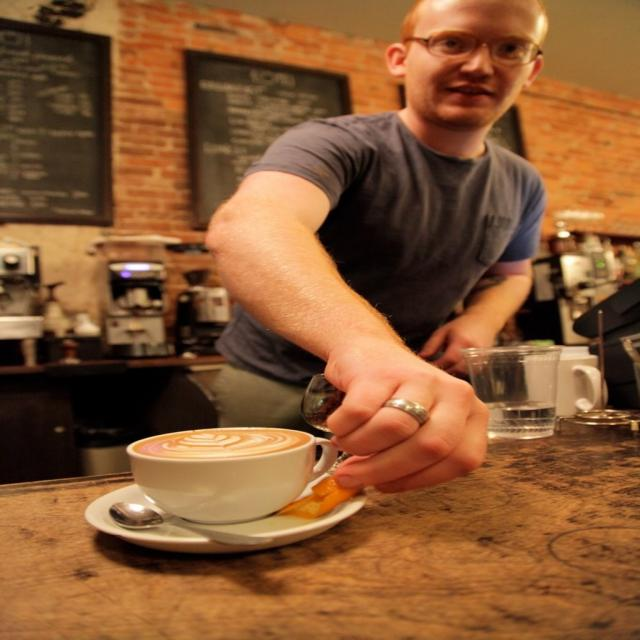Coffee: (117, 428, 346, 523)
